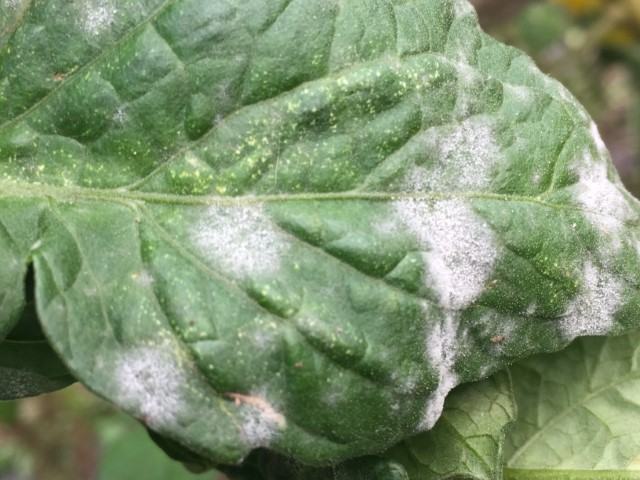blanca: (391, 194, 505, 310), (191, 197, 290, 281), (405, 116, 505, 194), (116, 342, 190, 431), (421, 309, 464, 430), (559, 265, 629, 336), (572, 153, 632, 228), (240, 383, 283, 448), (81, 4, 116, 40), (478, 314, 512, 348), (598, 229, 625, 266), (451, 52, 482, 84), (585, 121, 607, 152), (508, 84, 529, 105), (456, 91, 476, 112), (452, 3, 472, 19), (478, 362, 491, 378), (524, 302, 537, 316)
